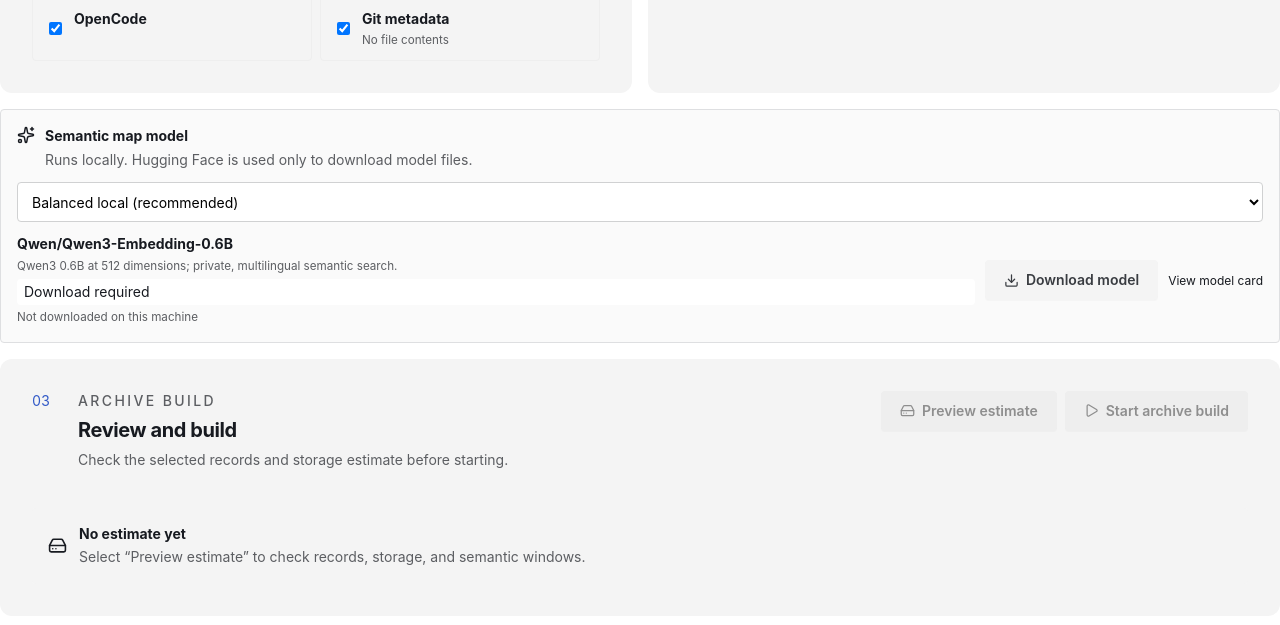
archive setup page › offers a pinned Hugging Face download when the embedding model is not local
(page scrolled)
Expected: the dropdown named "Embedding model preset" shows "Balanced local (recommended)", [17,182,1263,222]
Expected: the text "Download required" is shown, [17,279,975,305]
Click the button "Download model": (1072, 280) [985,260,1158,300]
(page scrolled)
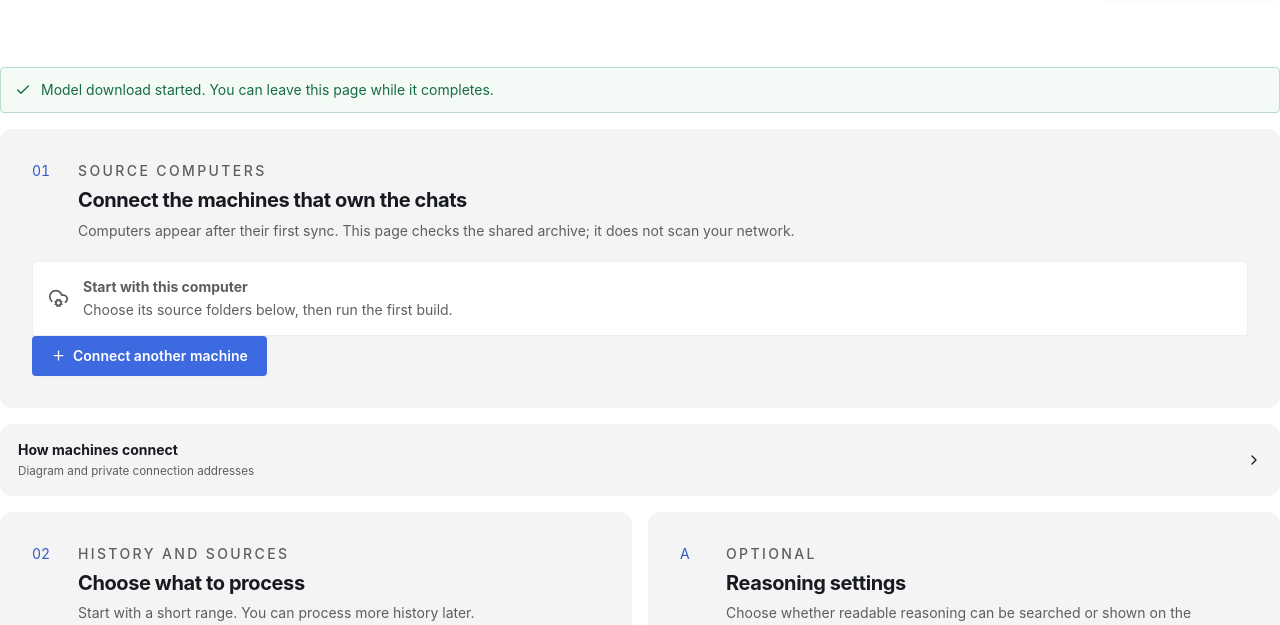
Result: the message shows "Model download started" at [41,81,494,98]
